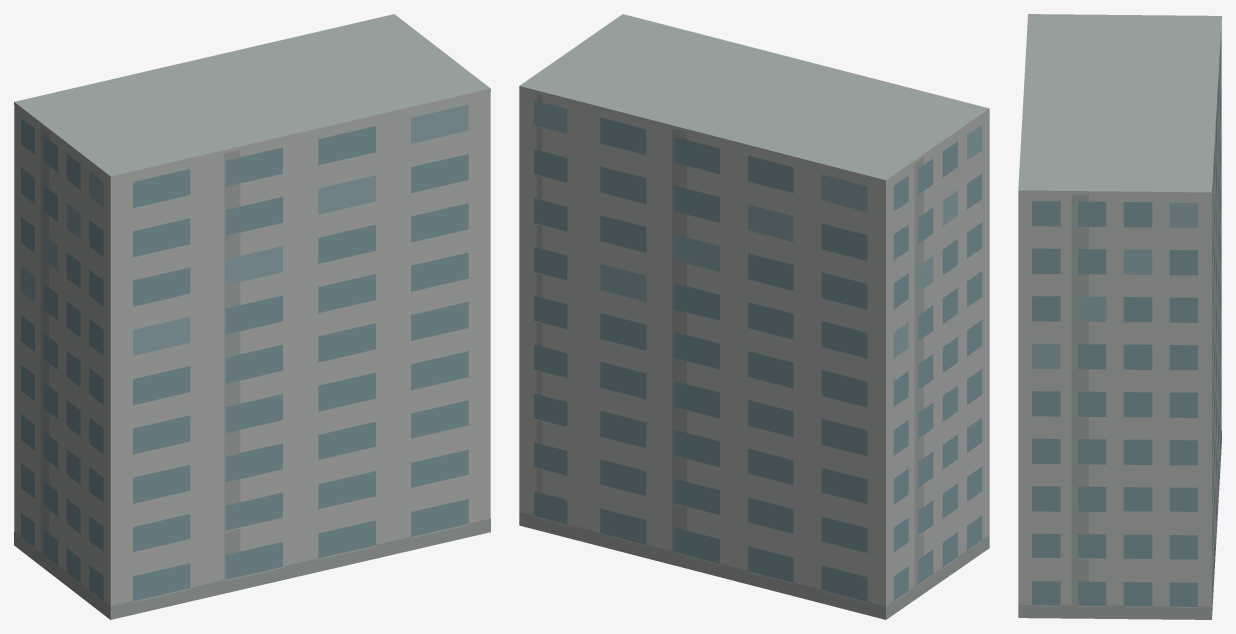
Rendered from residential-7df5d434-0c16-4133-ba11-7c68d5d5b8c3.glb.
The picture shows the model from 3 angles, left to right: view 1: azimuth 30°, elevation 25°; view 2: azimuth 150°, elevation 25°; view 3: azimuth 270°, elevation 25°; orthographic projection. The views are drawn at different scales.
Parts seen in each view (by area): view 1: residential-7df5d434-0c16-4133-ba11-7c68d5d5b8c3.tmp; view 2: residential-7df5d434-0c16-4133-ba11-7c68d5d5b8c3.tmp; view 3: residential-7df5d434-0c16-4133-ba11-7c68d5d5b8c3.tmp.
Boxes of the visible parts, bbox=[...] form: residential-7df5d434-0c16-4133-ba11-7c68d5d5b8c3.tmp: bbox=[14, 14, 490, 619]; residential-7df5d434-0c16-4133-ba11-7c68d5d5b8c3.tmp: bbox=[519, 14, 989, 619]; residential-7df5d434-0c16-4133-ba11-7c68d5d5b8c3.tmp: bbox=[1018, 14, 1221, 619].
Bounding box in the file's own units: 28.64 × 32 × 13.82.
